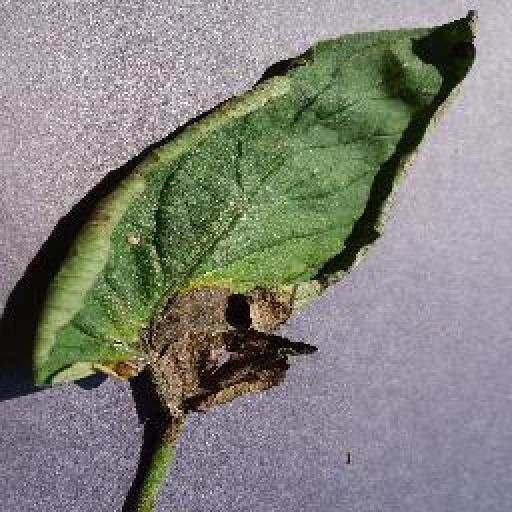Late Blight: (32, 12, 477, 424)
